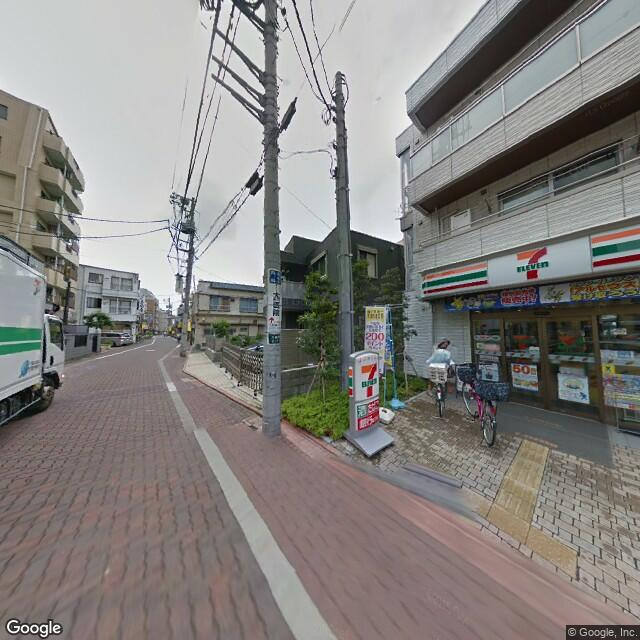7-eleven: (421, 223, 638, 302), (345, 348, 382, 416)
